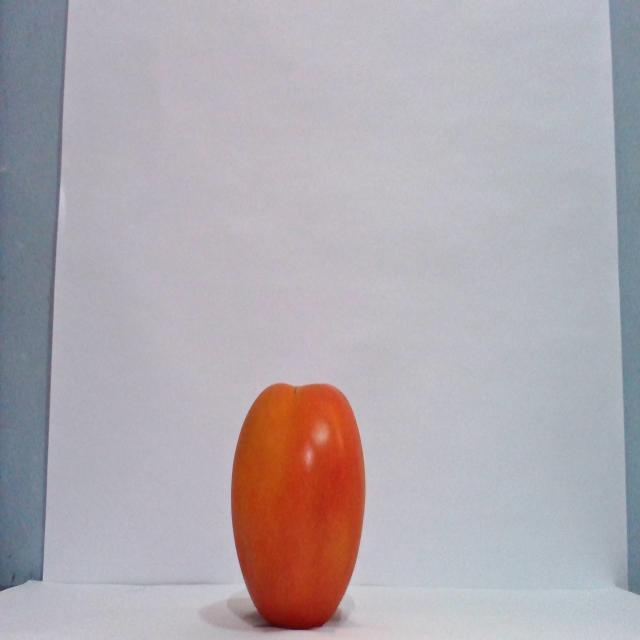Red: (229, 380, 366, 629)
